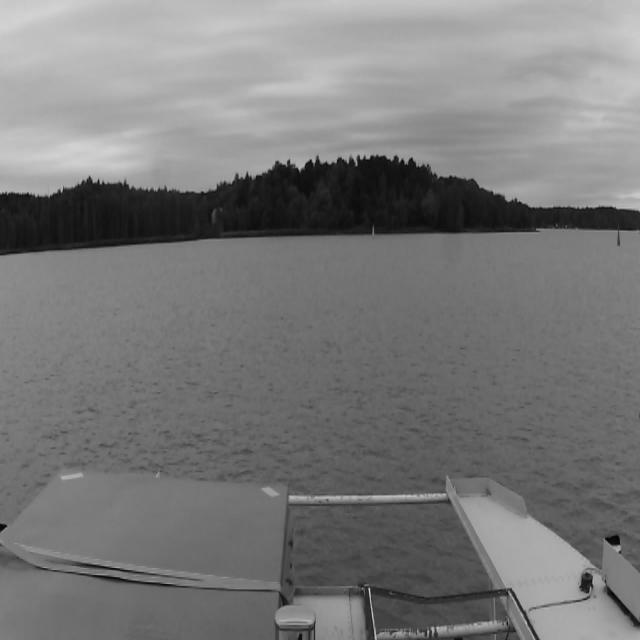buoy: (616, 228, 620, 246), (371, 226, 375, 239)
